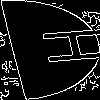H: (25, 25, 100, 68)
